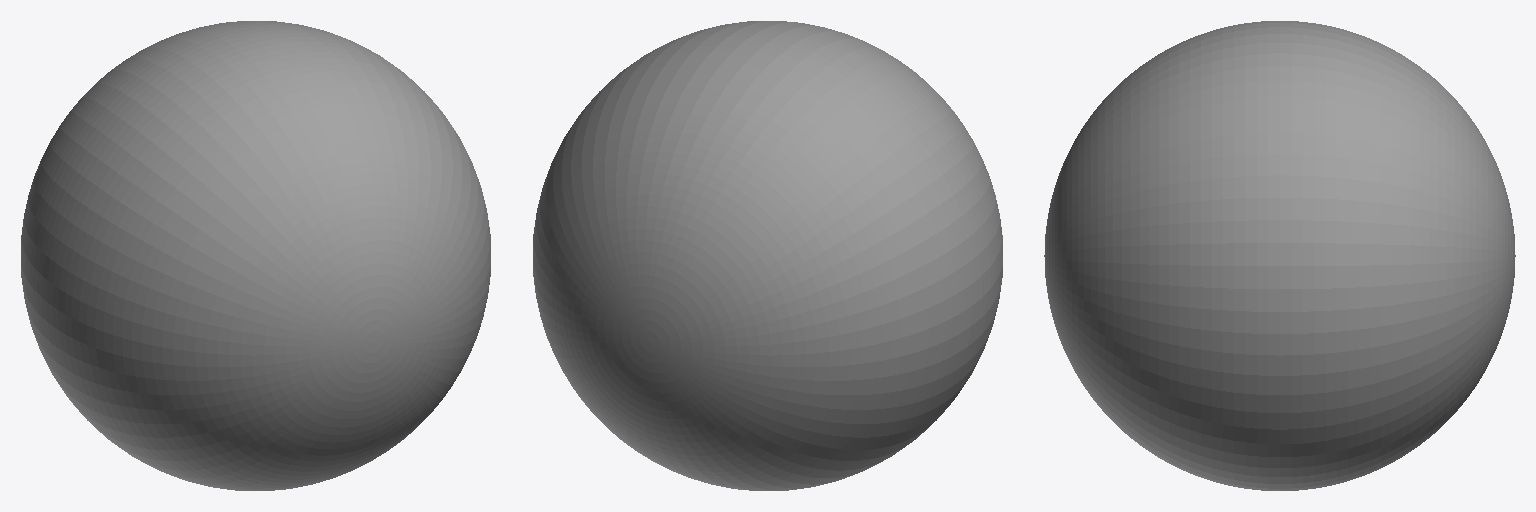
File: msphere2.obj
3 views of the same model, side by side, from view 1: azimuth 30°, elevation 25°; view 2: azimuth 150°, elevation 25°; view 3: azimuth 270°, elevation 25° (orthographic).
Visible parts, largest first — view 1: Plane; view 2: Plane; view 3: Plane.
Part boxes in pixels (bbox=[...]): Plane: bbox=[21, 21, 490, 490]; Plane: bbox=[533, 21, 1002, 490]; Plane: bbox=[1044, 21, 1515, 490].
Size of the model in its own units: 4.29 by 4.29 by 4.29.